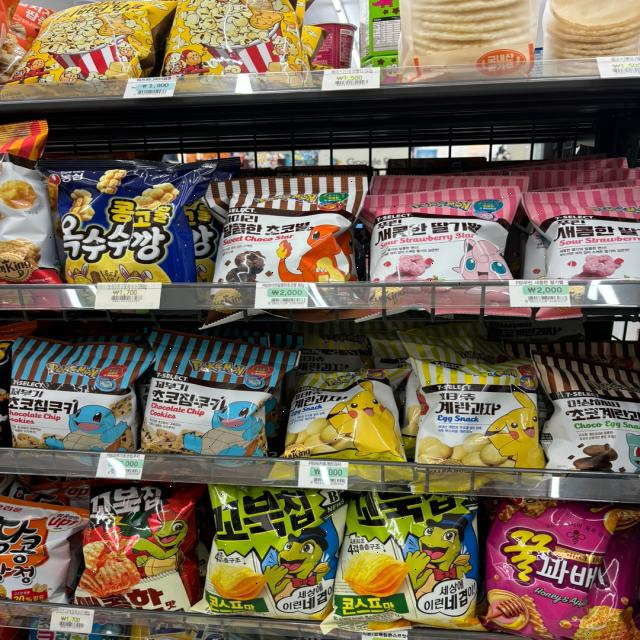product: (46, 156, 210, 288), (493, 496, 640, 640), (344, 493, 486, 627), (204, 484, 338, 618), (206, 178, 364, 286), (370, 178, 520, 286), (6, 344, 150, 451), (156, 342, 284, 457), (84, 485, 198, 607), (417, 367, 547, 473), (295, 369, 418, 474), (535, 187, 640, 284)
